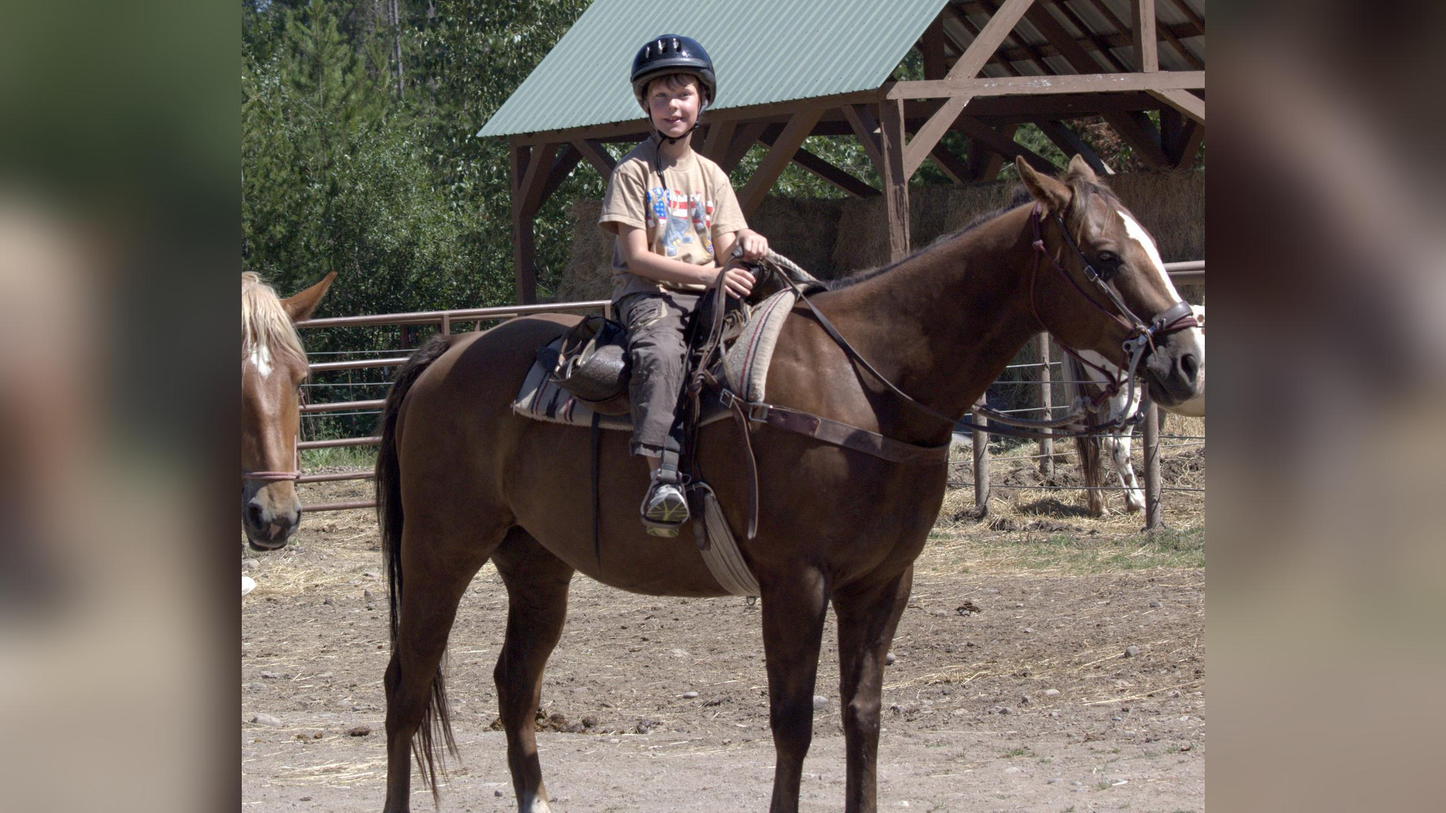horse: (360, 148, 1206, 813)
